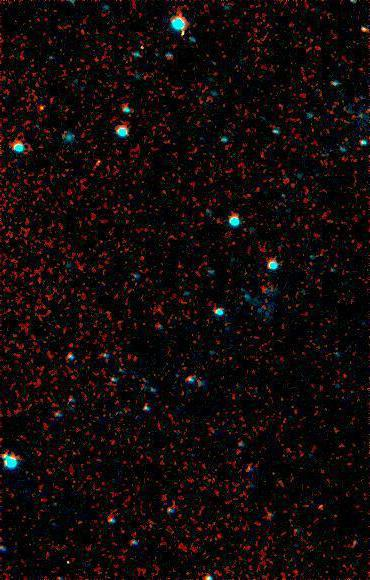star: (307, 492, 337, 522)
